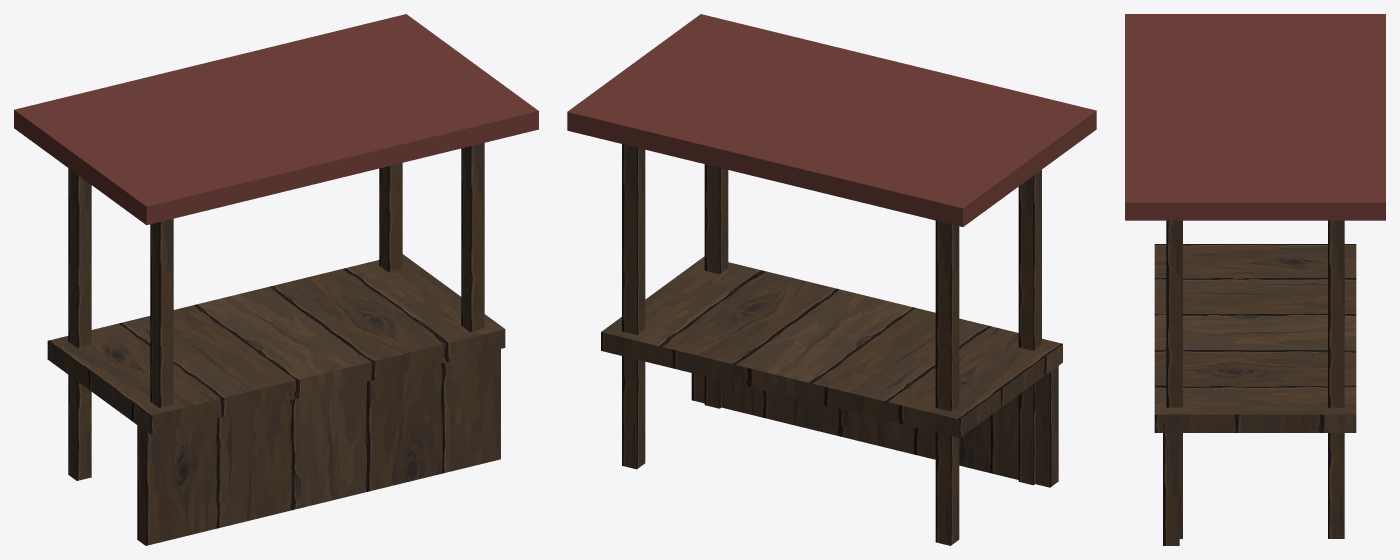
Rendered from market_stall.glb.
3 renders of one model, left to right at view 1: azimuth 30°, elevation 25°; view 2: azimuth 150°, elevation 25°; view 3: azimuth 270°, elevation 25°, orthographic. The views are drawn at different scales.
Visible parts, largest first — view 1: market_stall; view 2: market_stall; view 3: market_stall.
Part boxes in pixels (bbox=[...]): market_stall: bbox=[14, 14, 538, 545]; market_stall: bbox=[567, 14, 1096, 545]; market_stall: bbox=[1125, 14, 1385, 545].
Size of the model in its own units: 2.65 by 2.31 by 1.55.
Materials: 2 (1 with a texture image).
